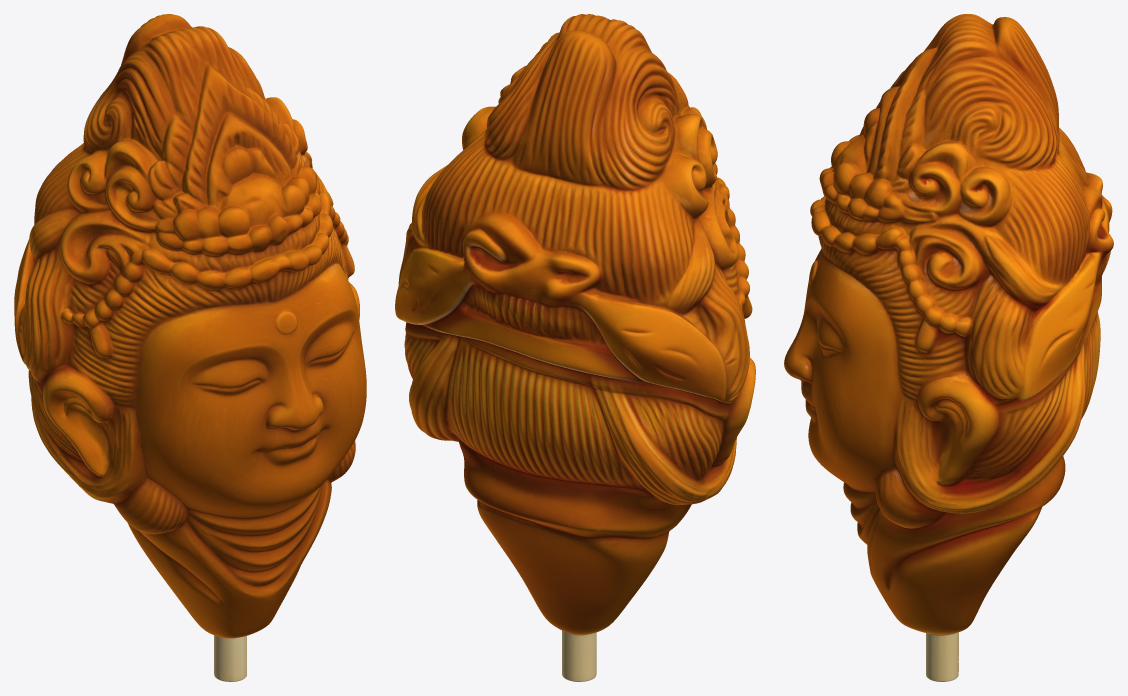
File: material01-meshy.glb
The picture shows the model from 3 angles, left to right: view 1: azimuth 30°, elevation 25°; view 2: azimuth 150°, elevation 25°; view 3: azimuth 270°, elevation 25°; orthographic projection. The views are drawn at different scales.
Bounding box in the file's own units: 0.9861 × 1.9 × 0.8888.
Materials: 1 (1 with a texture image).
